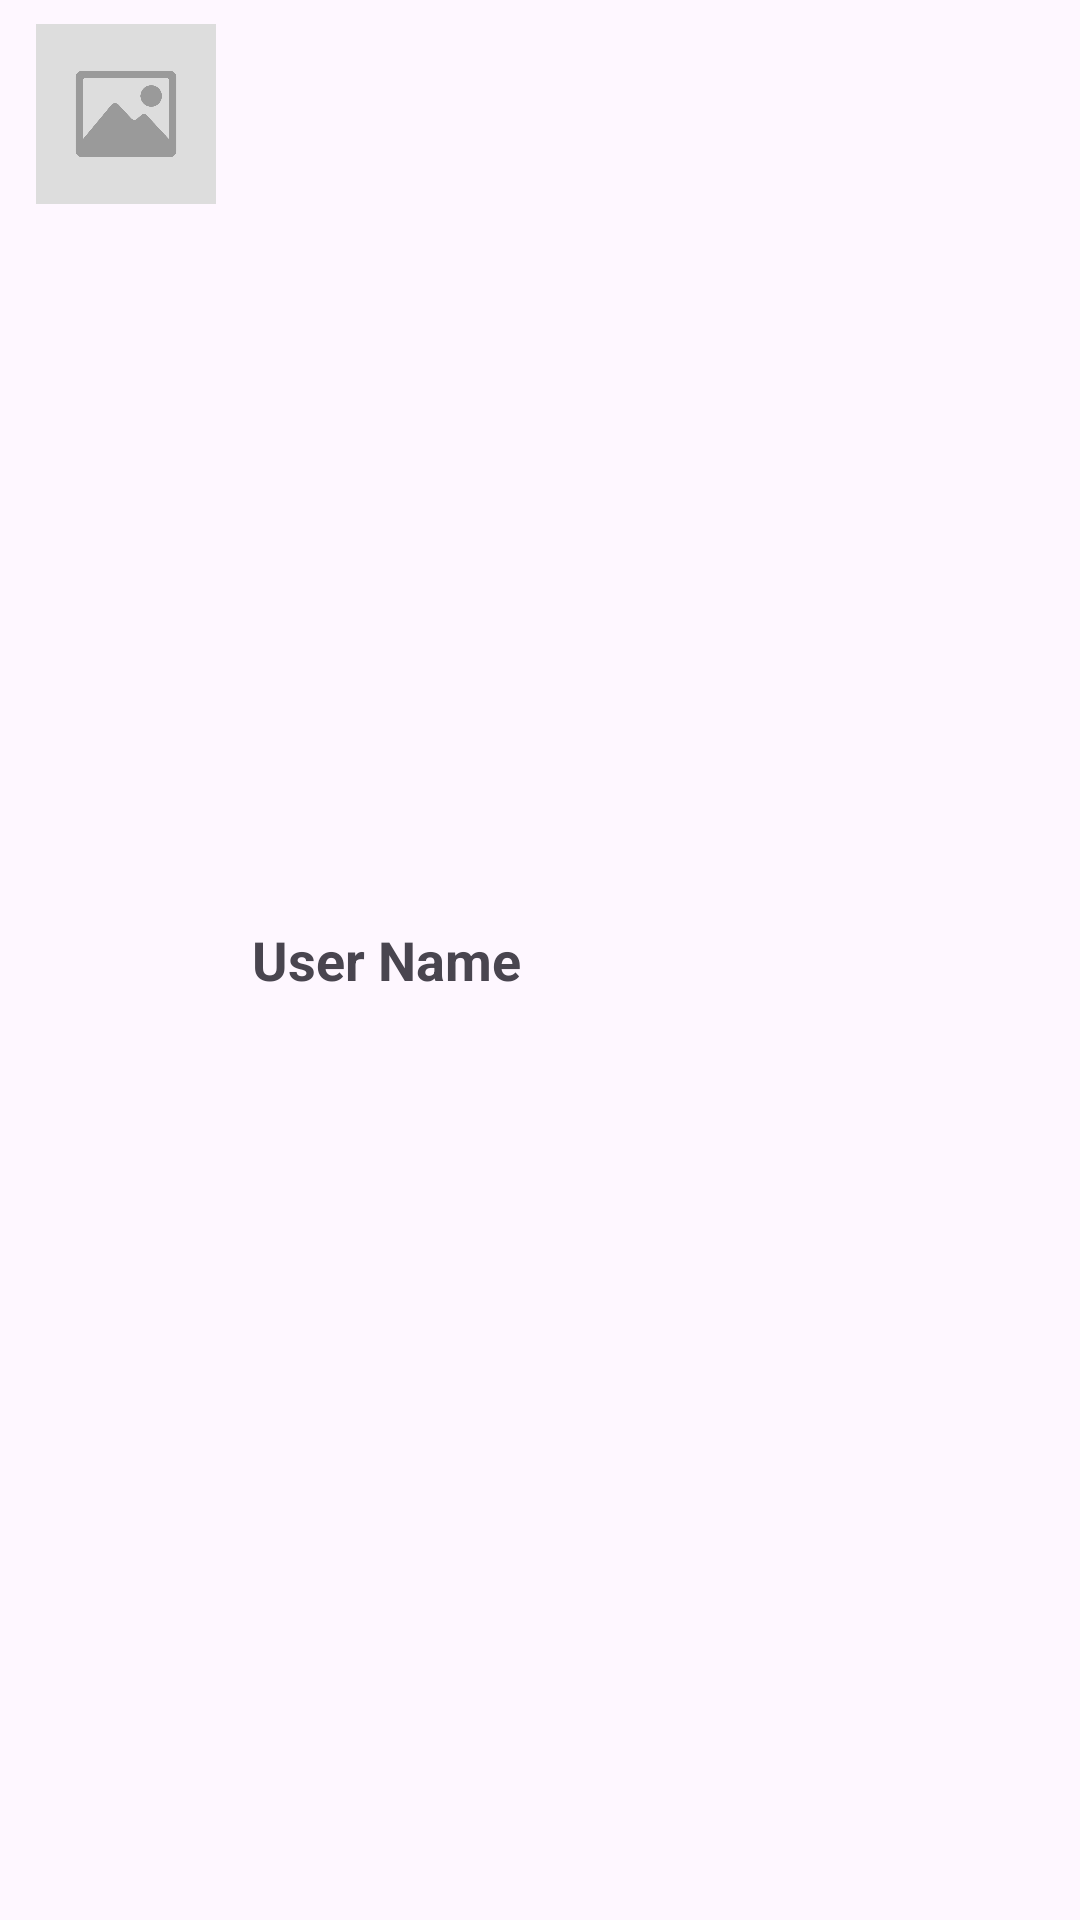

Named icons in this screenshot (1080 x 1920) and their bounding boxes, box=[x1, y1, x2, y2]:
place holder: box=[36, 24, 216, 204]
